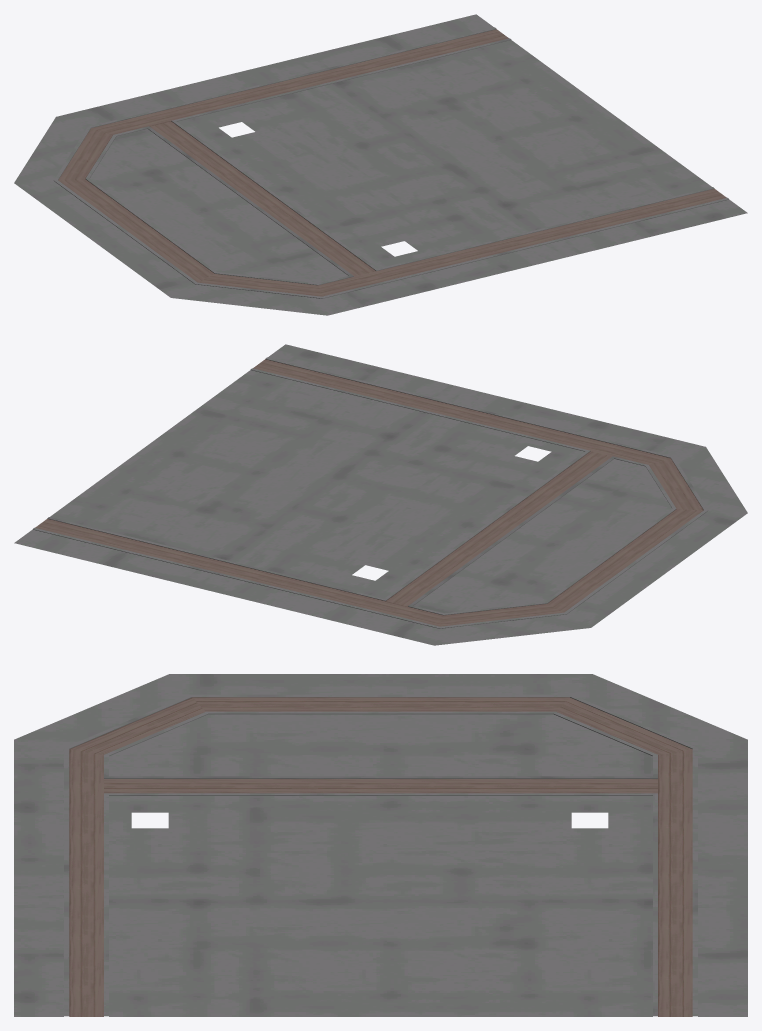
The model's file is MainTower_Be.fbx.
3 views of the same model, one above another, from view 1: azimuth 30°, elevation 25°; view 2: azimuth 150°, elevation 25°; view 3: azimuth 270°, elevation 25° (orthographic). The views are drawn at different scales.
Parts seen in each view (by area): view 1: SM_ENV_AMVLLG02_AreaB_MainTower_Be.mo; view 2: SM_ENV_AMVLLG02_AreaB_MainTower_Be.mo; view 3: SM_ENV_AMVLLG02_AreaB_MainTower_Be.mo.
Part boxes in pixels (x1,y1,x2,y2): SM_ENV_AMVLLG02_AreaB_MainTower_Be.mo: [14, 14, 747, 315]; SM_ENV_AMVLLG02_AreaB_MainTower_Be.mo: [14, 344, 747, 645]; SM_ENV_AMVLLG02_AreaB_MainTower_Be.mo: [14, 674, 747, 1016].
Bounding box in the file's own units: 1863 × 1.64 × 1686.
